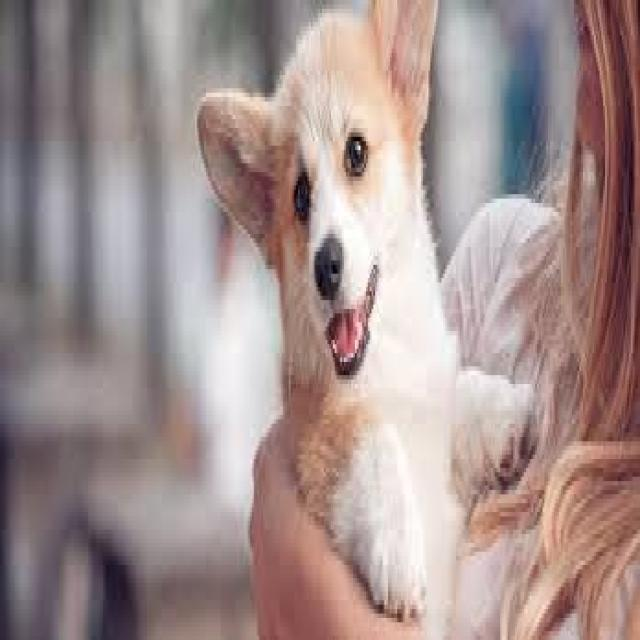CORGI: (184, 0, 540, 619)
